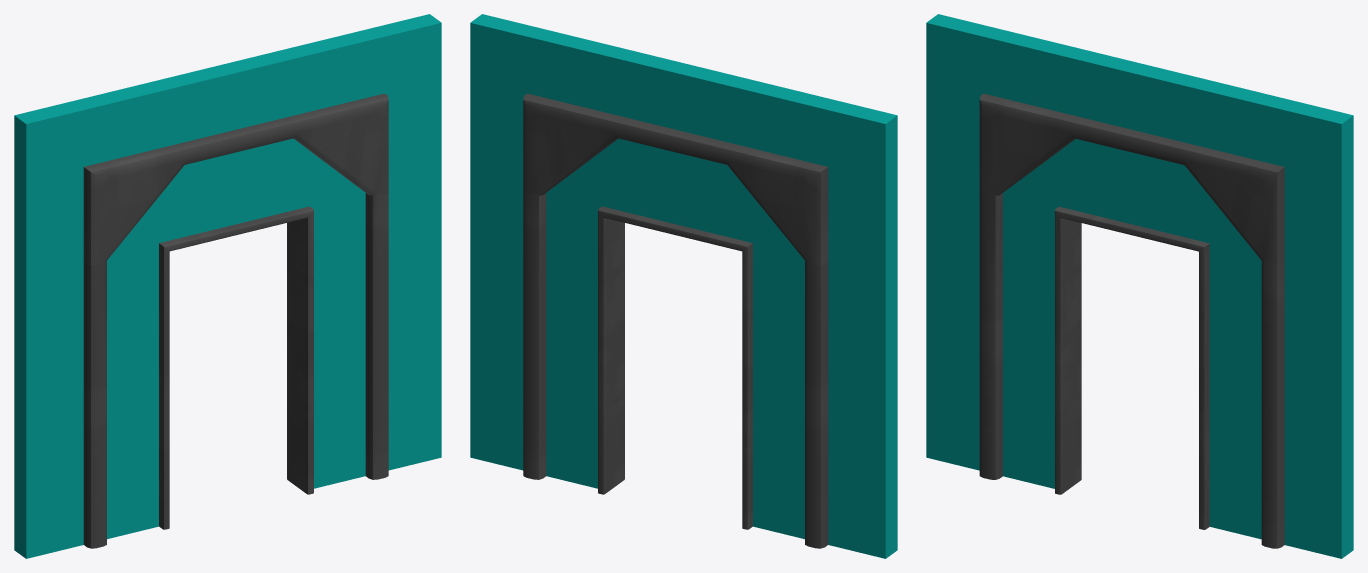
The model's file is EN_W_wallDoor_closed.fbx.
3 views of the same model, side by side, from view 1: azimuth 30°, elevation 25°; view 2: azimuth 150°, elevation 25°; view 3: azimuth 330°, elevation 25° (orthographic).
Visible parts, largest first — view 1: En_W_wallDoor7; view 2: En_W_wallDoor7; view 3: En_W_wallDoor7.
Part boxes in pixels (bbox=[...]): En_W_wallDoor7: bbox=[14, 14, 441, 558]; En_W_wallDoor7: bbox=[470, 14, 897, 558]; En_W_wallDoor7: bbox=[926, 14, 1353, 558].
Size of the model in its own units: 400 by 400 by 41.96.
